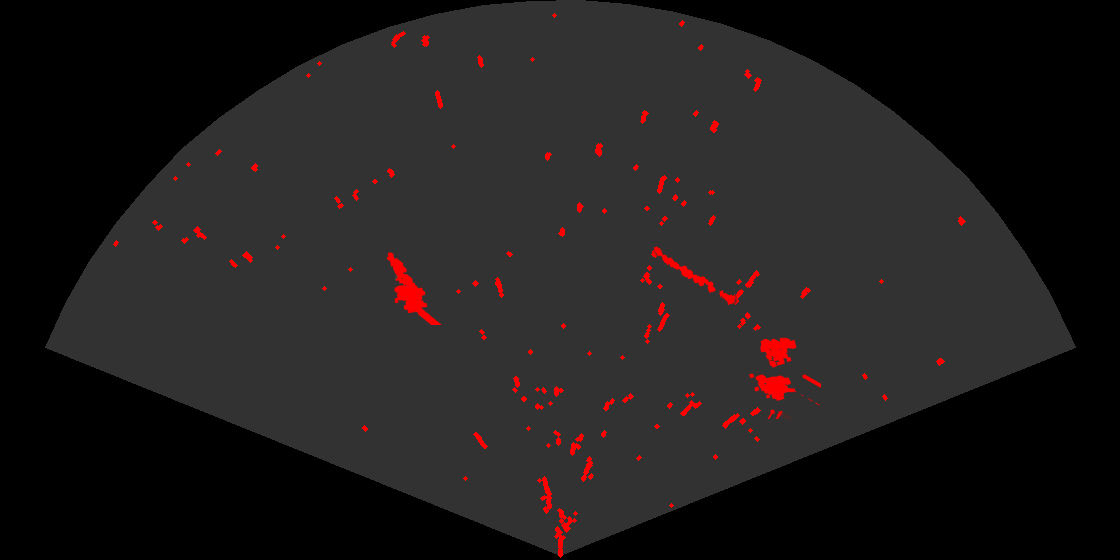cage: (748, 336, 821, 419)
chain: (652, 245, 738, 307)
frogman: (385, 251, 443, 325)
